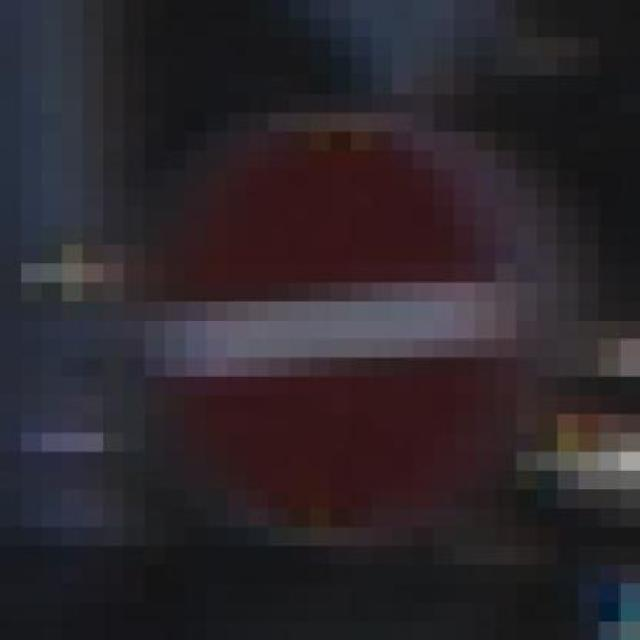B2: (148, 127, 530, 538)
